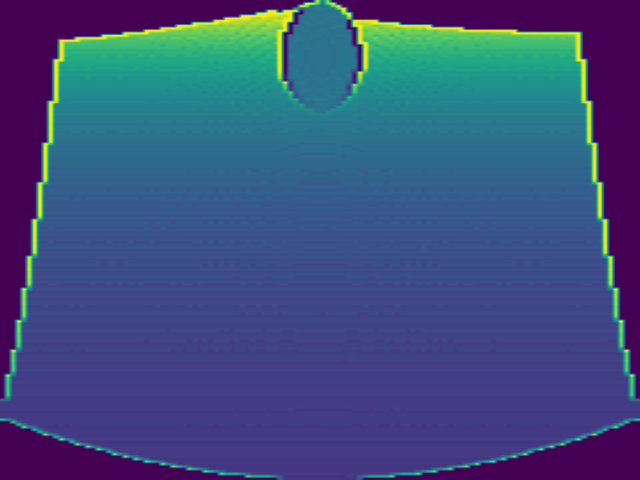sphere: (276, 2, 367, 112)
